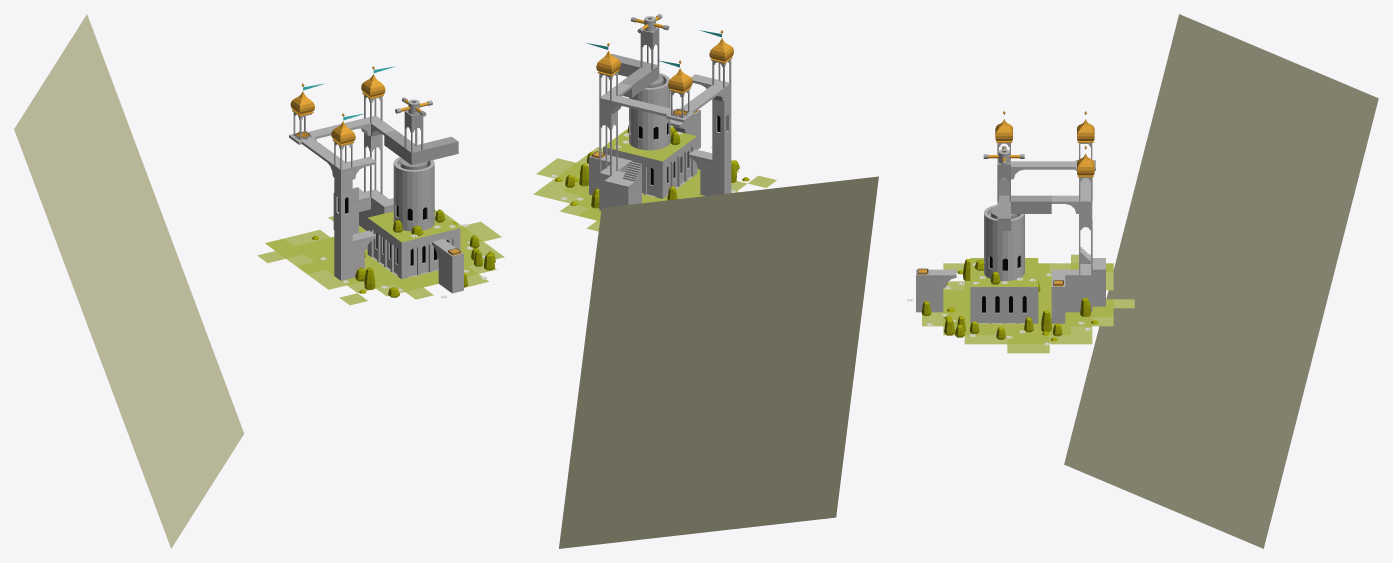
File: monument_valley_scene_ok.fbx
3 views of the same model, side by side, from view 1: azimuth 30°, elevation 25°; view 2: azimuth 150°, elevation 25°; view 3: azimuth 270°, elevation 25° (orthographic).
Parts seen in each view (by area): view 1: ground.001, ground, main_platform.001, tower.001; view 2: ground.001, main_platform.001, ground, tower.001, 2_cubes_window.001, roof.002, roof.003, roof.001; view 3: ground.001, ground, main_platform.001, tower.001.
Boxes of the visible parts, bbox=[...] form: ground.001: bbox=[14, 14, 244, 548]; ground: bbox=[257, 212, 504, 305]; main_platform.001: bbox=[367, 209, 460, 279]; tower.001: bbox=[393, 157, 434, 231]; ground.001: bbox=[559, 176, 878, 548]; main_platform.001: bbox=[603, 125, 697, 198]; ground: bbox=[533, 147, 776, 231]; tower.001: bbox=[629, 73, 670, 150]; 2_cubes_window.001: bbox=[712, 108, 731, 137]; roof.002: bbox=[596, 43, 620, 76]; roof.003: bbox=[668, 60, 692, 93]; roof.001: bbox=[709, 30, 733, 63]; ground.001: bbox=[1064, 14, 1378, 548]; ground: bbox=[922, 254, 1134, 353]; main_platform.001: bbox=[970, 258, 1038, 323]; tower.001: bbox=[984, 204, 1024, 281].
Size of the model in its own units: 34.21 by 34.4 by 34.75.
